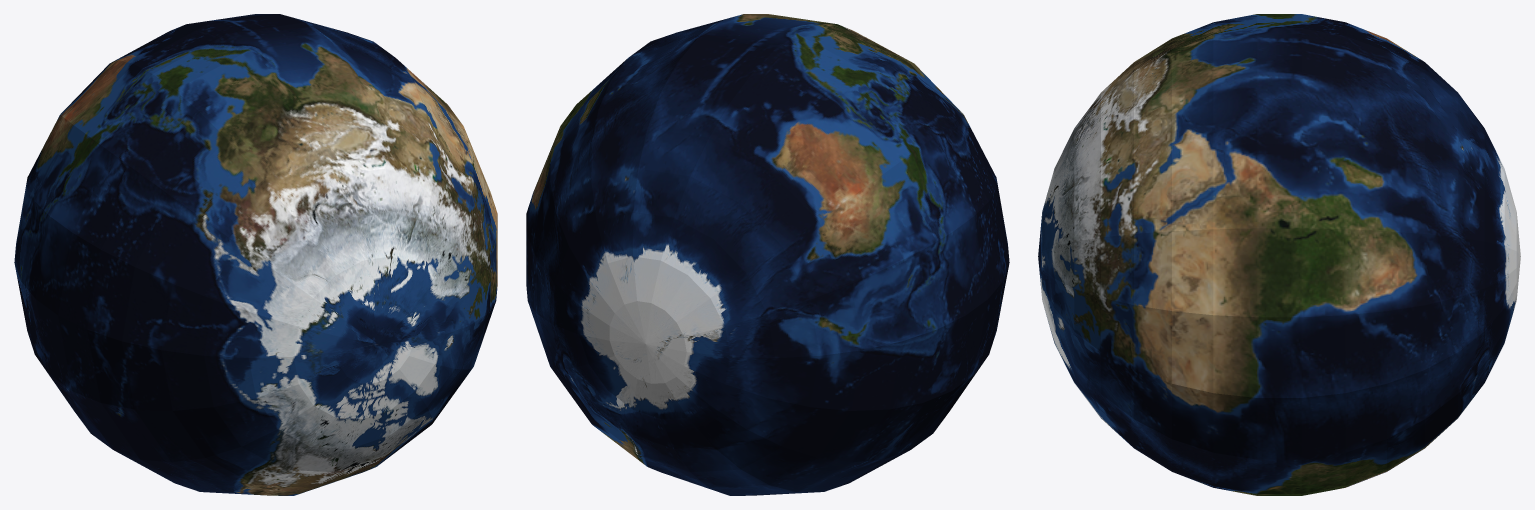
The model's file is earth.obj.
3 renders of one model, left to right at view 1: azimuth 30°, elevation 25°; view 2: azimuth 150°, elevation 25°; view 3: azimuth 270°, elevation 25°, orthographic.
Visible parts, largest first — view 1: Plane_Plane.001; view 2: Plane_Plane.001; view 3: Plane_Plane.001.
Boxes of the visible parts, <box> form: Plane_Plane.001: <box>14,14,497,495</box>; Plane_Plane.001: <box>526,14,1009,495</box>; Plane_Plane.001: <box>1038,14,1520,495</box>.
Bounding box in the file's own units: 1 × 1 × 1.
